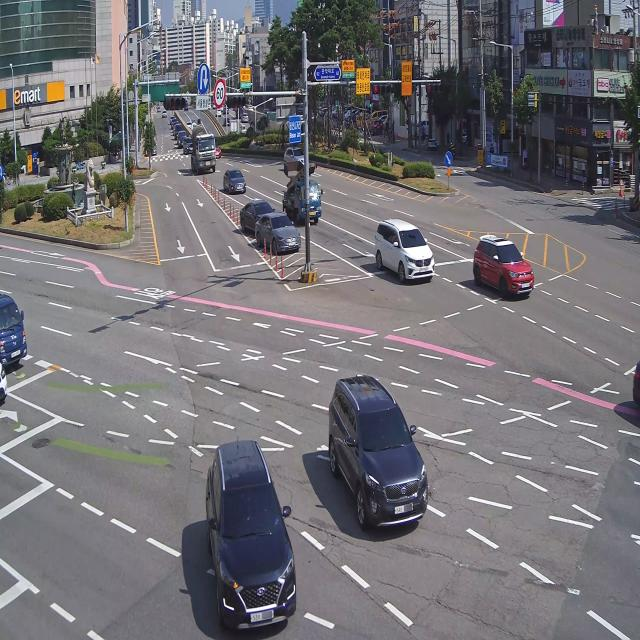Car: (191, 430, 315, 640), (324, 352, 438, 548), (464, 215, 539, 305), (367, 211, 438, 302), (255, 203, 298, 270), (238, 194, 272, 236), (221, 160, 250, 200)
Truck: (0, 284, 36, 378), (281, 160, 322, 224), (188, 120, 217, 176)
